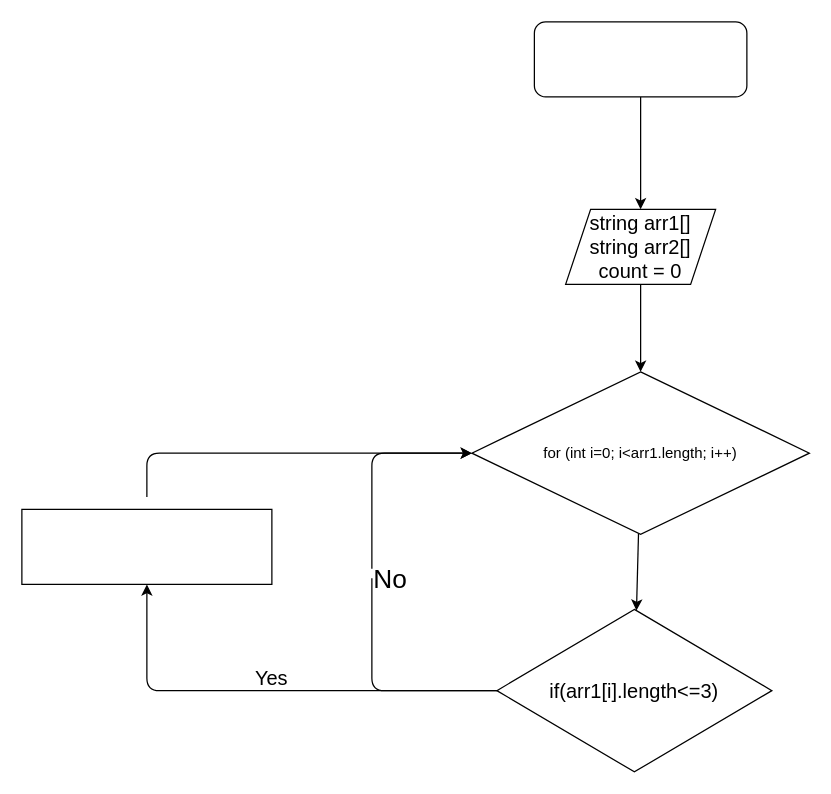
Image size: 831x794. Some labels were removed from this diagram. Each missing label, with the box of its shape:
arr2[count]=array1[i] count++;: (21, 508, 272, 584)
FillArray(arr1, arry2); PrintArray(arr2);: (533, 21, 747, 97)
